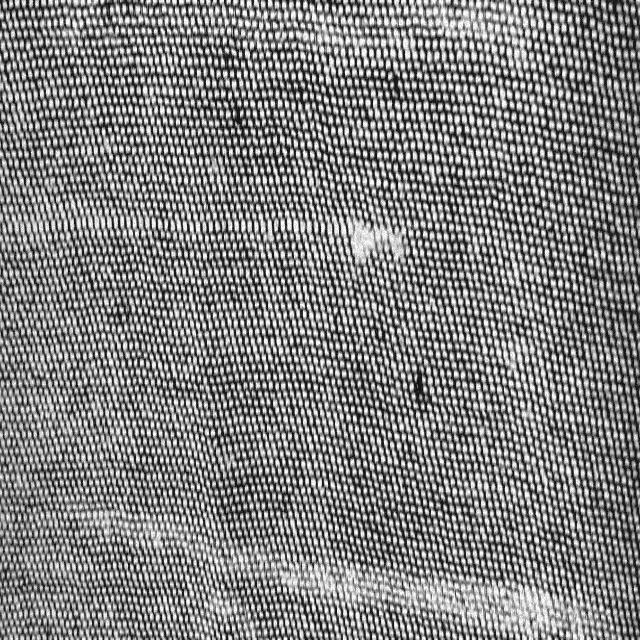Foreign_yarn: (14, 490, 631, 640), (0, 200, 411, 268)
